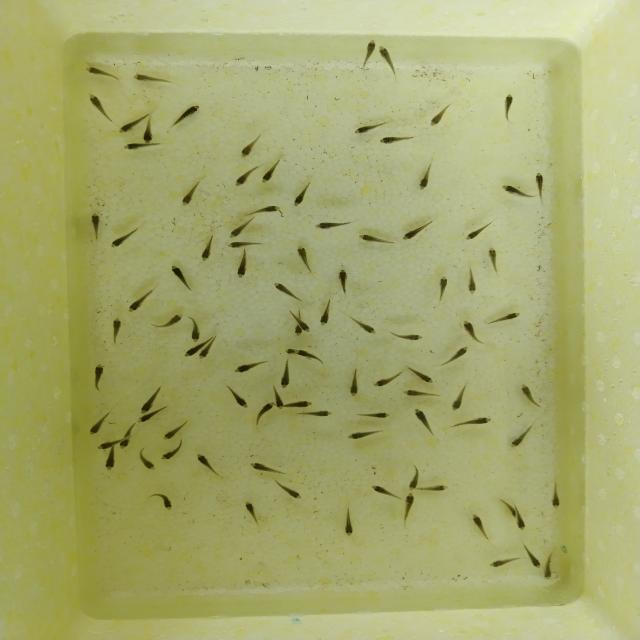fingerling: (140, 383, 166, 412), (509, 424, 536, 451), (156, 308, 189, 329), (242, 133, 268, 159), (173, 103, 202, 126), (291, 180, 314, 208), (109, 232, 141, 252), (196, 453, 221, 478), (167, 265, 193, 289), (88, 92, 111, 119), (275, 284, 303, 306), (228, 217, 256, 239), (131, 73, 175, 87), (442, 346, 471, 367), (233, 250, 252, 282), (377, 45, 397, 75), (91, 410, 114, 436), (161, 443, 189, 464), (468, 512, 489, 540), (454, 416, 493, 431), (274, 478, 303, 498), (238, 164, 262, 188), (413, 406, 435, 432), (182, 178, 202, 206), (546, 481, 564, 512), (348, 427, 384, 442), (356, 233, 394, 247), (223, 386, 247, 408), (448, 382, 464, 415), (131, 290, 156, 311), (371, 482, 400, 500), (351, 318, 377, 338), (497, 183, 527, 200), (254, 402, 277, 424), (521, 545, 543, 568), (428, 107, 451, 129), (161, 424, 189, 442), (517, 382, 537, 407), (483, 557, 521, 570), (83, 66, 118, 80), (262, 162, 283, 185), (461, 319, 482, 342), (136, 450, 157, 473), (252, 464, 292, 476), (399, 224, 427, 241), (463, 224, 486, 244), (409, 367, 433, 386), (235, 359, 265, 374), (374, 374, 404, 389), (402, 492, 418, 520), (298, 350, 326, 366), (200, 340, 219, 363), (198, 237, 214, 264), (378, 134, 414, 146), (120, 422, 137, 447), (102, 452, 121, 474), (434, 274, 450, 300), (491, 311, 523, 324), (142, 114, 156, 143), (318, 299, 333, 326), (349, 367, 362, 398), (157, 494, 177, 514), (244, 502, 262, 524), (281, 354, 293, 387), (295, 245, 310, 271), (501, 94, 515, 121), (343, 510, 357, 537), (340, 270, 353, 299), (361, 37, 376, 62), (486, 246, 501, 271), (92, 364, 105, 392), (404, 387, 436, 398), (89, 213, 102, 240), (417, 165, 431, 190), (360, 411, 391, 422), (286, 398, 314, 410), (225, 241, 267, 249), (354, 124, 384, 135), (190, 317, 203, 342), (118, 143, 154, 152), (316, 221, 348, 231), (467, 268, 478, 297), (540, 560, 555, 581), (406, 468, 419, 492), (116, 118, 135, 134), (501, 501, 518, 518), (245, 206, 281, 214), (111, 317, 122, 343), (137, 410, 159, 423), (514, 512, 528, 532), (273, 388, 285, 411), (535, 170, 544, 200), (309, 410, 336, 420), (183, 344, 201, 358), (397, 333, 424, 342), (298, 318, 312, 334), (426, 483, 449, 492), (96, 439, 114, 450)
